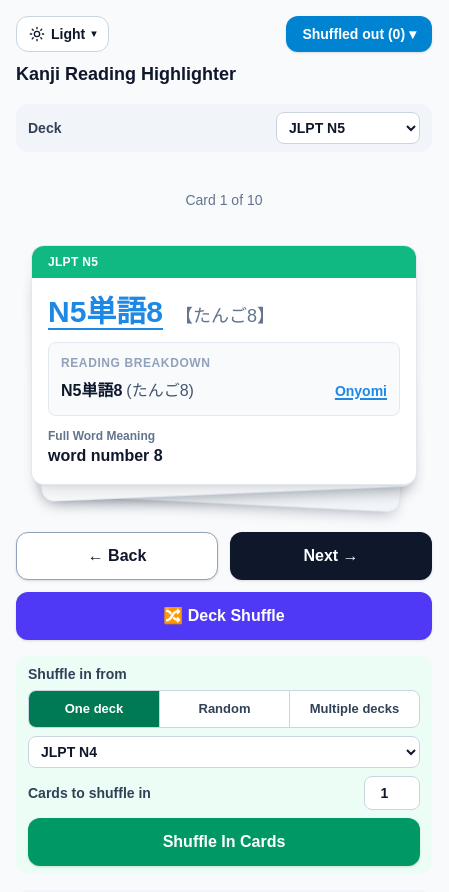
Test case: Shuffle In Cards from a deck that hasn’t loaded yet (ARCH2) › a bad count shows its message straight away, with no loading state
Expected: the text "Card 1 of 10" is shown, [186,192,263,208]
Clear the number field labelled "Cards to shuffle in" at (392, 793), box [364,776,420,810]
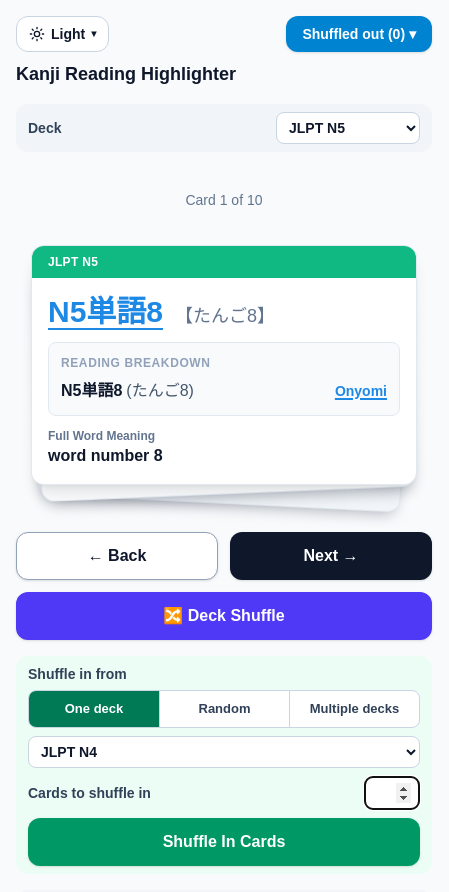
Type keys "0"
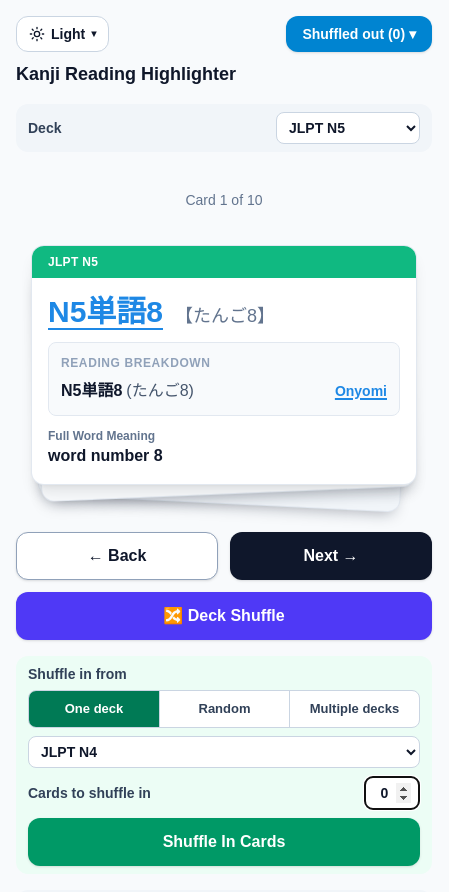
Click the button "Shuffle In Cards" at (224, 842), box [28,818,420,866]
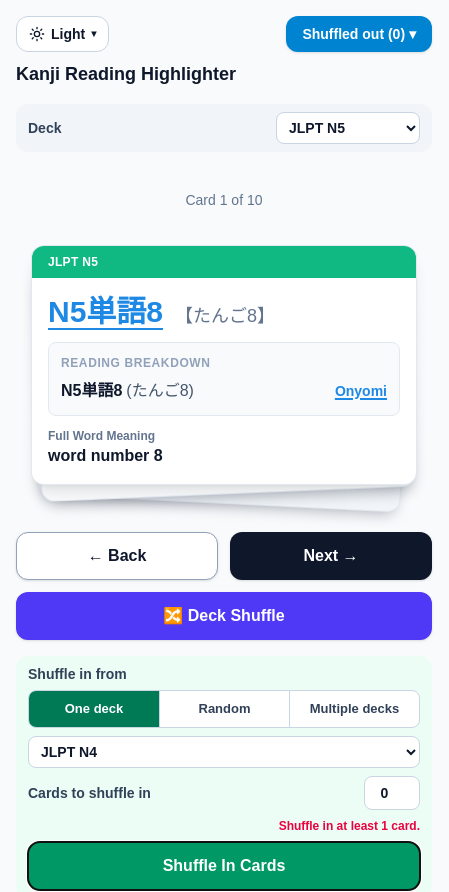
Expected: the button "Shuffle In Cards" is shown, [28,842,420,890]
Result: the message "Shuffle in at least 1 card." is shown at [279,819,420,833]
